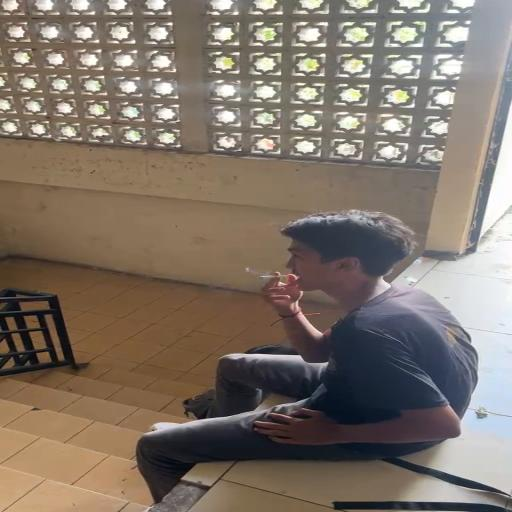dataset-deteksi-merokok: (247, 238, 315, 297)
